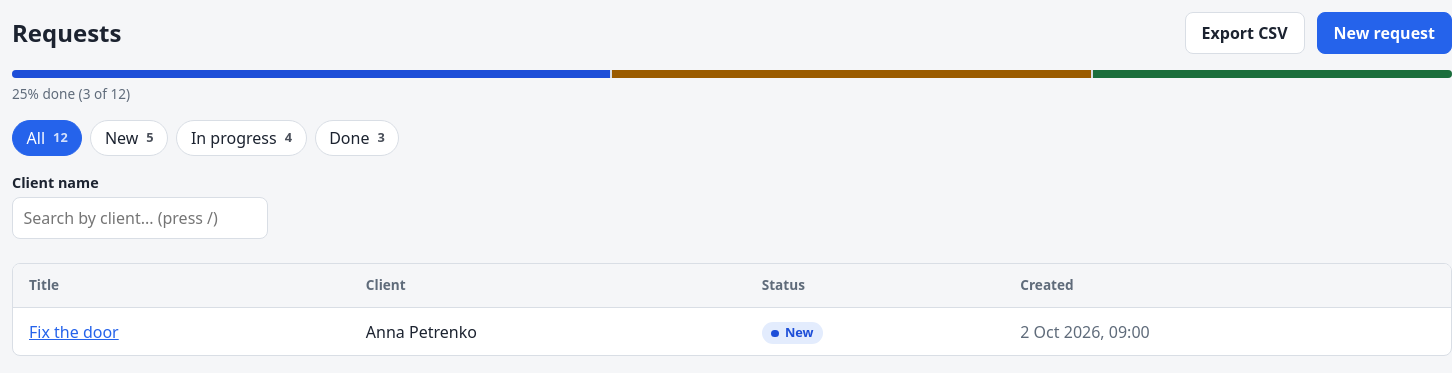
Test: RequestsPage › searches by client name after the user stops typing
expect the link "Fix the door" is shown: met, box 29,320 -> 119,342
Type "ann" into the search field labelled "Client name" at [140, 218], box 12,197 -> 268,239
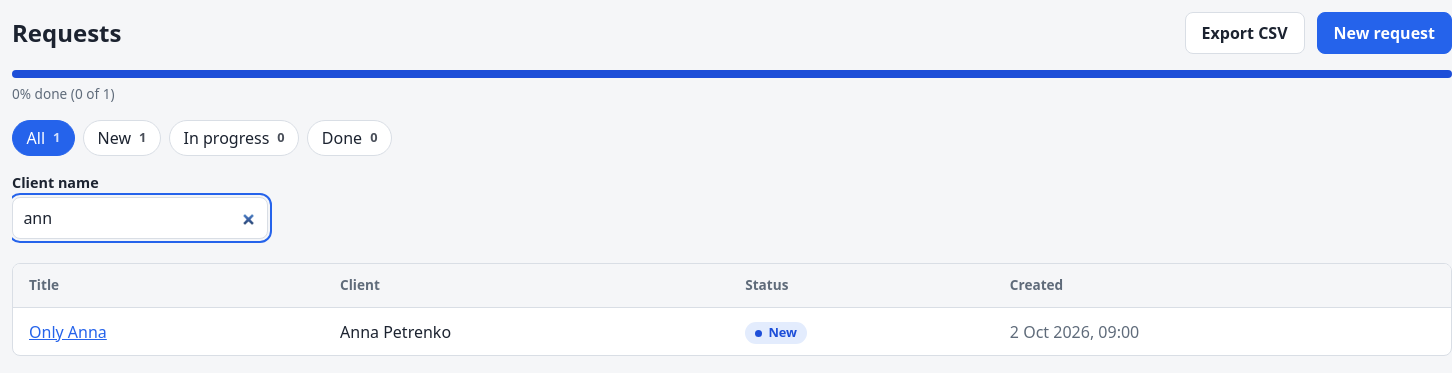
expect the link "Only Anna" is shown: met, box 29,320 -> 107,342
